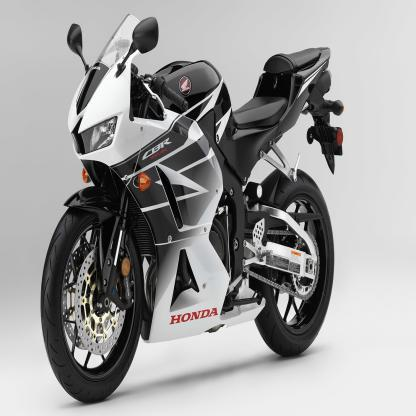Motorcycle: (43, 6, 349, 403)
